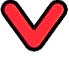box_arrow: (1, 1, 68, 52)
